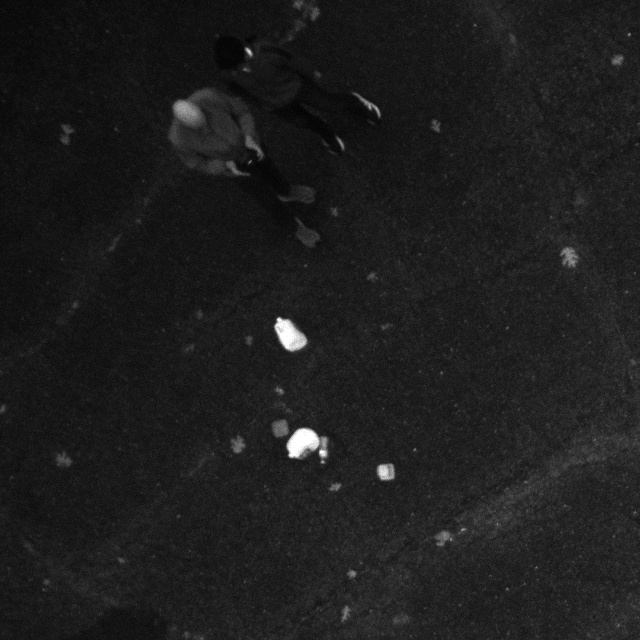can: (270, 312, 311, 358), (284, 424, 321, 465)
container: (375, 458, 397, 485), (269, 417, 290, 442)
